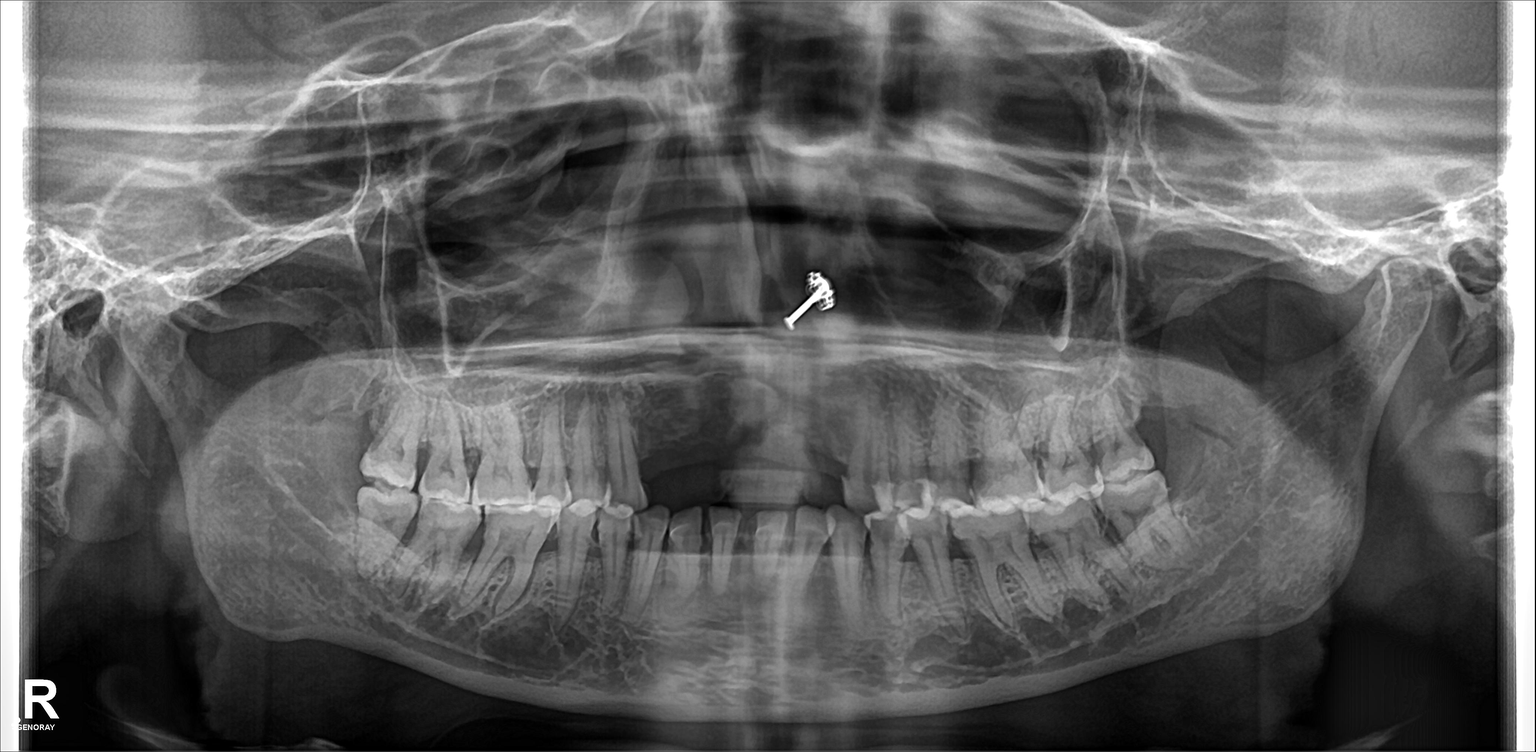Missing Tooth: (320, 359, 369, 471), (633, 400, 687, 500), (1127, 380, 1175, 477), (695, 408, 731, 503)
